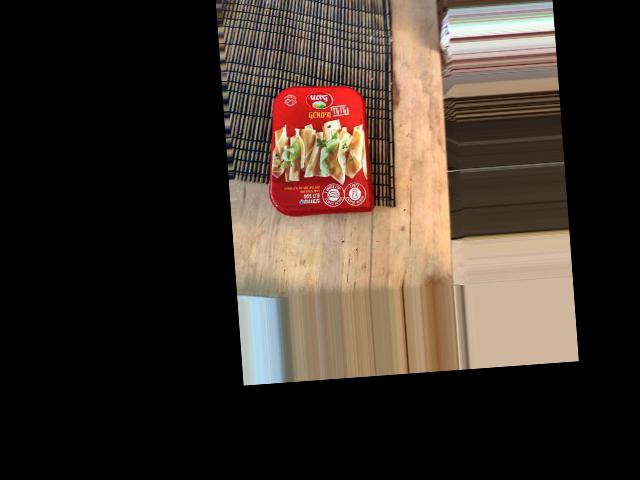cheese: (243, 28, 364, 132)
